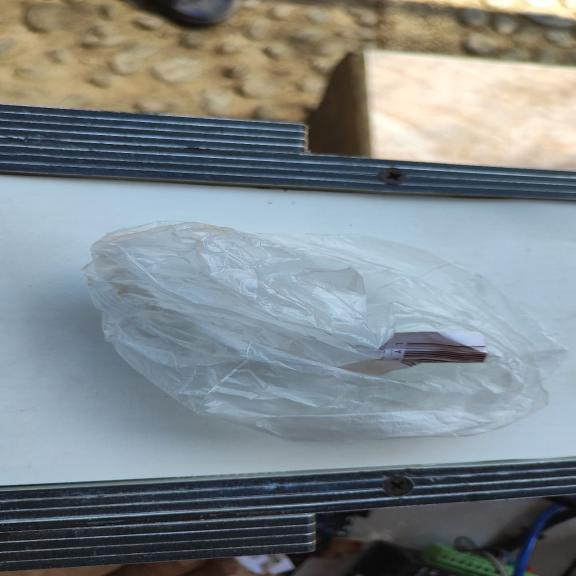Plastik: (82, 219, 576, 443)
